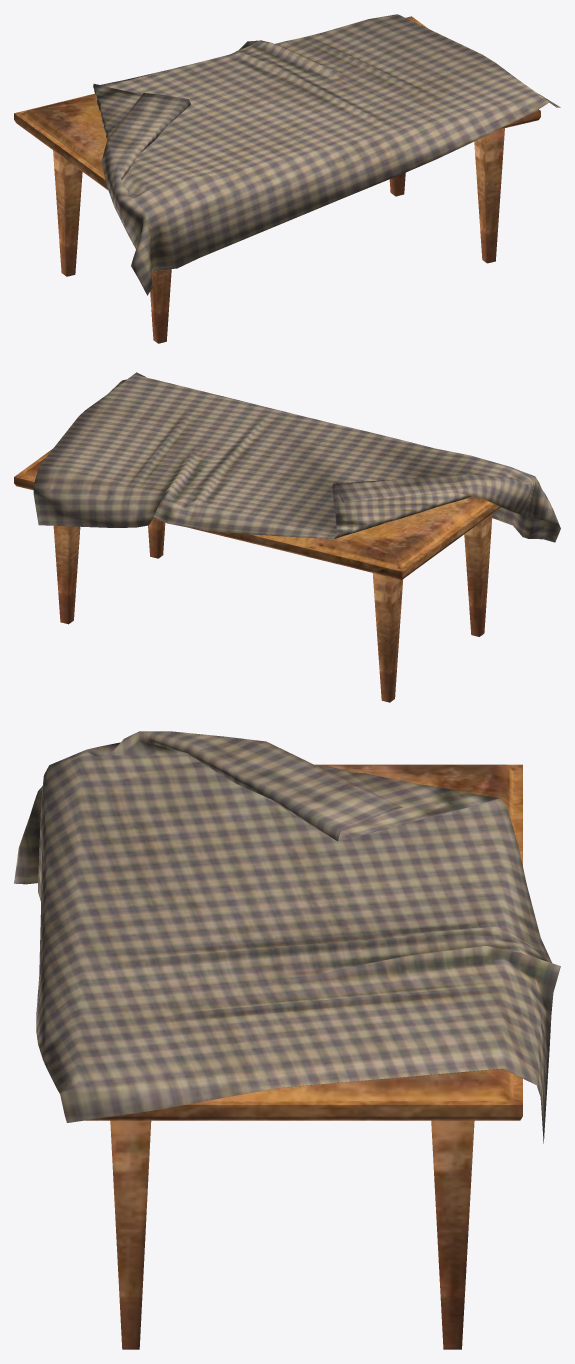
Rendered from dining_table.glb.
The picture shows the model from 3 angles, top to bottom: view 1: azimuth 30°, elevation 25°; view 2: azimuth 150°, elevation 25°; view 3: azimuth 270°, elevation 25°; orthographic projection. The views are drawn at different scales.
Parts seen in each view (by area): view 1: dining_table_cloth, dining_table; view 2: dining_table_cloth, dining_table; view 3: dining_table_cloth, dining_table.
Part boxes in pixels (box(x1,y1,x2,y2)): dining_table_cloth: box(93, 14, 560, 295); dining_table: box(14, 16, 540, 343); dining_table_cloth: box(33, 372, 560, 542); dining_table: box(14, 448, 501, 702); dining_table_cloth: box(14, 731, 560, 1143); dining_table: box(85, 764, 522, 1349).
Bounding box in the file's own units: 2.26 × 0.877 × 1.39.
Materials: 1 (1 with a texture image).
